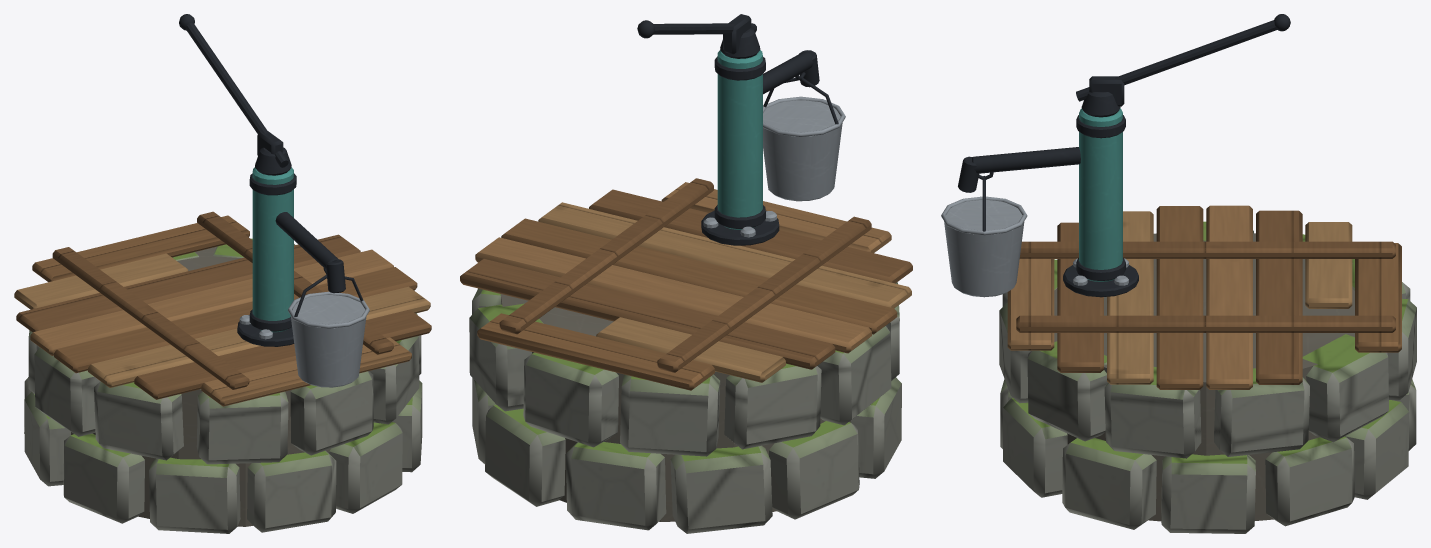
Rendered from hand_pump_well.glb.
3 renders of one model, left to right at view 1: azimuth 30°, elevation 25°; view 2: azimuth 150°, elevation 25°; view 3: azimuth 270°, elevation 25°, orthographic. The views are drawn at different scales.
Parts seen in each view (by area): view 1: hand_pump_well; view 2: hand_pump_well; view 3: hand_pump_well.
Boxes of the visible parts, x1,y1,x2,y2 form: hand_pump_well: (14, 14, 431, 533); hand_pump_well: (460, 14, 912, 533); hand_pump_well: (941, 14, 1416, 533).
Bounding box in the file's own units: 1.43 × 1.65 × 1.63.
11 materials, 11 textured.
